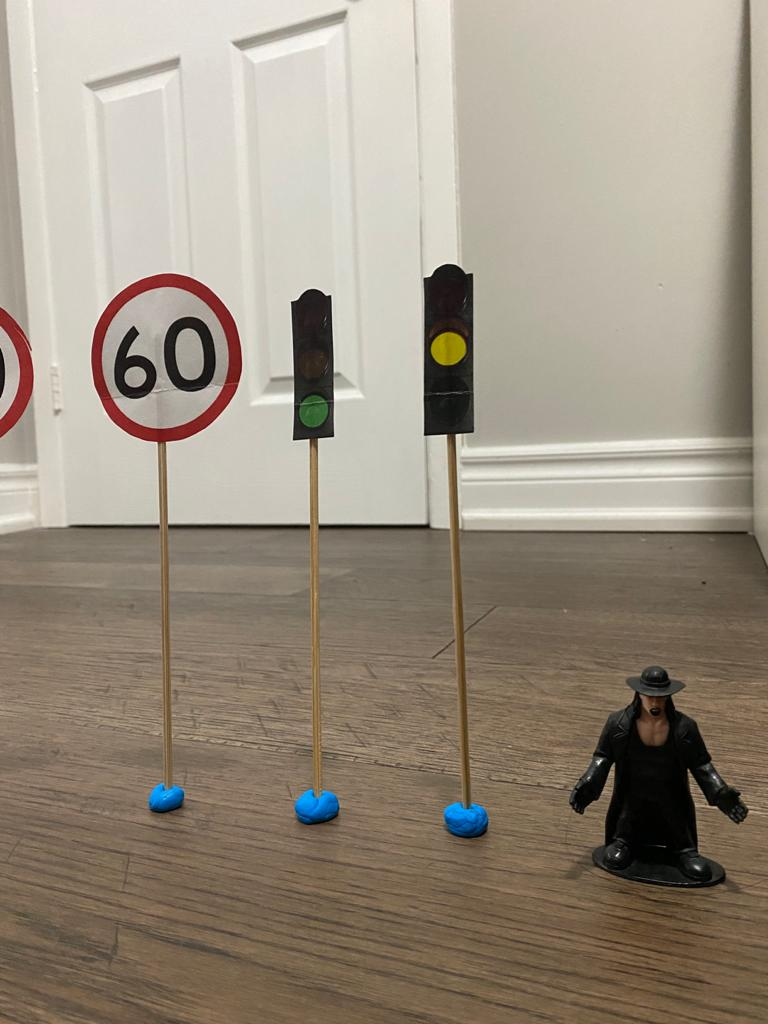Green Traffic Light: (280, 286, 340, 450)
Person: (562, 655, 752, 891)
Speed Limit 60: (87, 271, 246, 451)
Yellow Traffic Light: (411, 260, 486, 442)
